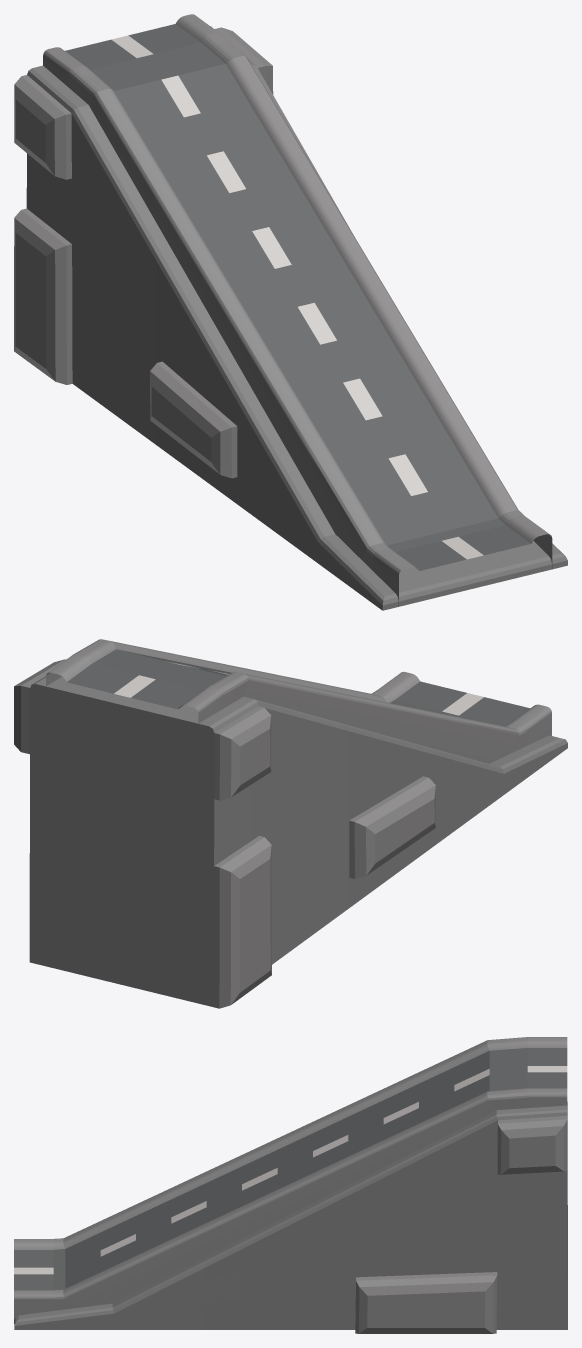
File: Road incline.fbx
3 views of the same model, one above another, from view 1: azimuth 30°, elevation 25°; view 2: azimuth 150°, elevation 25°; view 3: azimuth 270°, elevation 25° (orthographic). The views are drawn at different scales.
Parts seen in each view (by area): view 1: Straight6, pCube19; view 2: pCube19, Straight6; view 3: pCube19, Straight6.
Part boxes in pixels (bbox=[...]): Straight6: bbox=[43, 14, 552, 606]; pCube19: bbox=[14, 26, 567, 610]; pCube19: bbox=[14, 659, 567, 1008]; Straight6: bbox=[46, 639, 551, 763]; pCube19: bbox=[14, 1102, 567, 1333]; Straight6: bbox=[14, 1037, 567, 1323].
Size of the model in its own units: 1.36 by 1.7 by 3.72.
